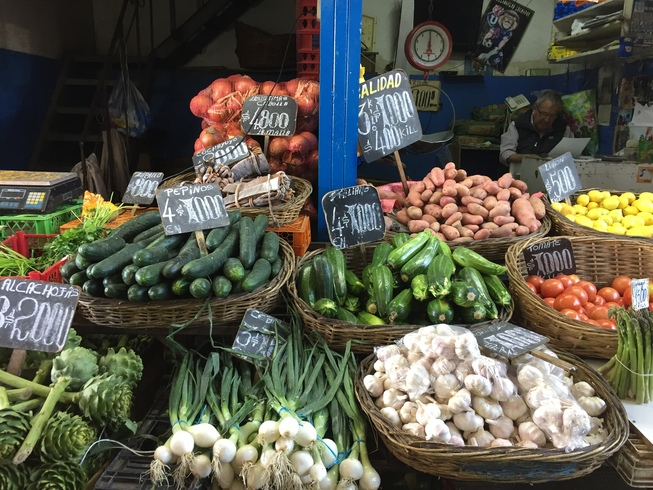precio: (352, 65, 432, 168), (1, 279, 81, 354), (318, 182, 393, 258), (466, 317, 557, 366), (231, 303, 294, 372), (159, 183, 233, 238), (534, 147, 590, 212), (245, 89, 301, 146), (518, 236, 581, 285), (192, 137, 259, 180), (125, 169, 172, 208), (627, 275, 653, 315)
